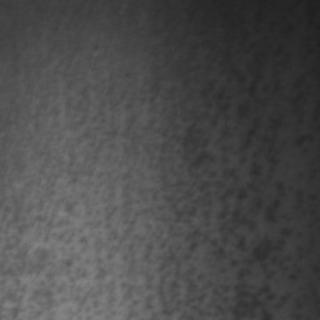pitted_surface: (0, 14, 314, 318)
